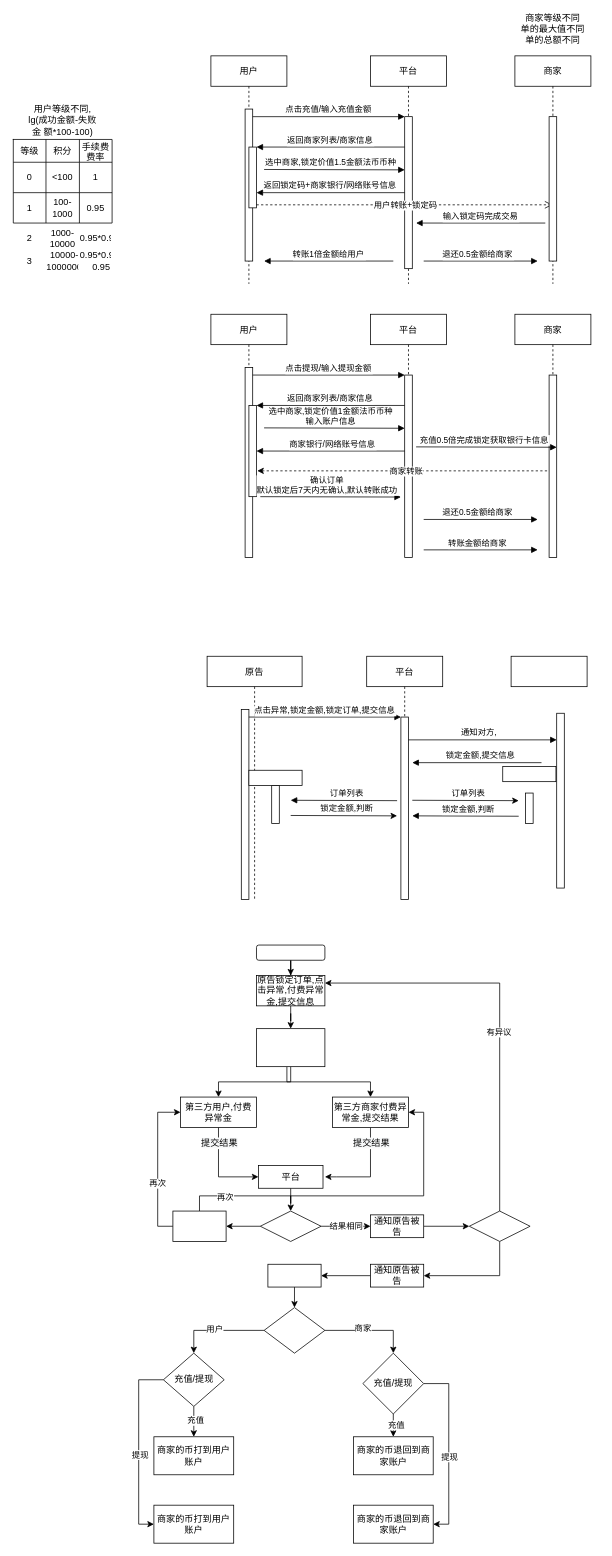
This 612x1556 diagram has some shape labels left out. Here are the shapes that lost their labels. From the top down, the centre of each, then its label:
At point 548,671: "被告".
At point 275,777: "第三方用户".
At point 529,774: "第三方商家".
At point 290,952: "开始".
At point 290,1047: "平台通知被告,被告付费异常金,提交信息".
At point 199,1225: "结果不相同".
At point 290,1225: "判断".
At point 499,1225: "有无异议".
At point 294,1275: "正功方获取失败方异常金".
At point 294,1330: "用户/商家".
